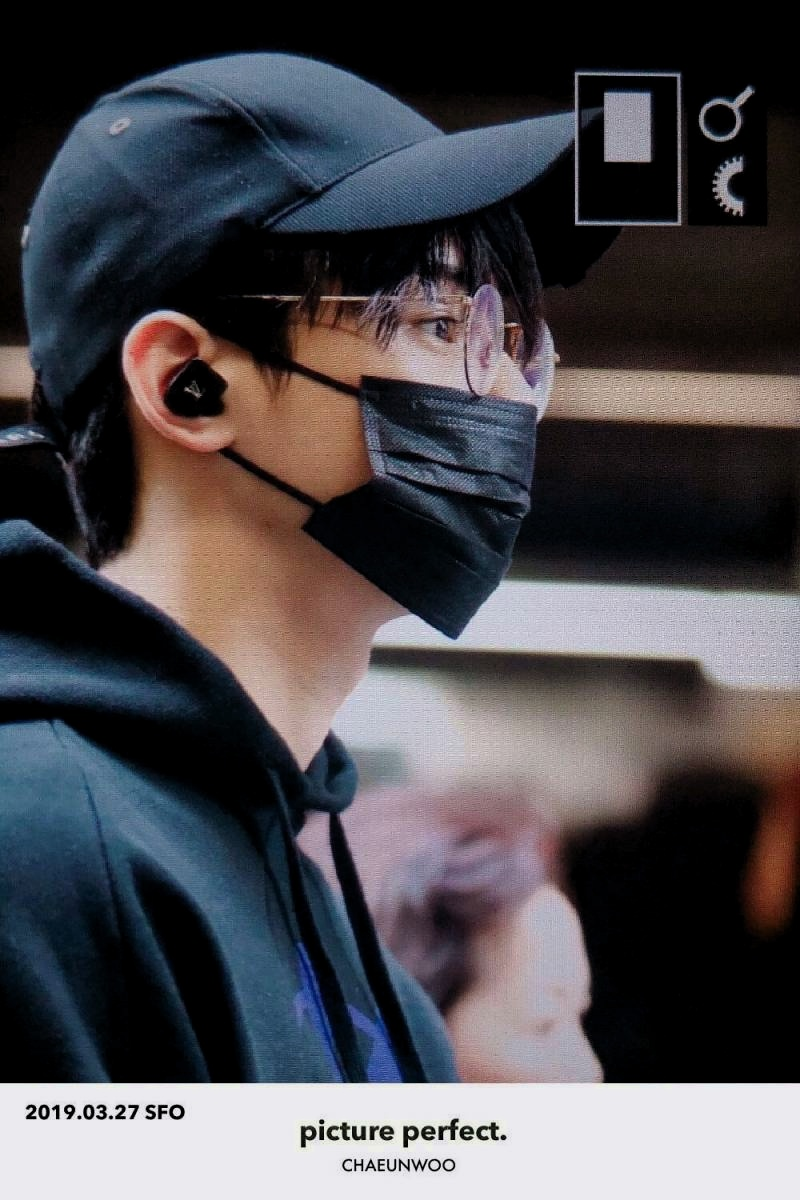earphone: (119, 310, 247, 454)
